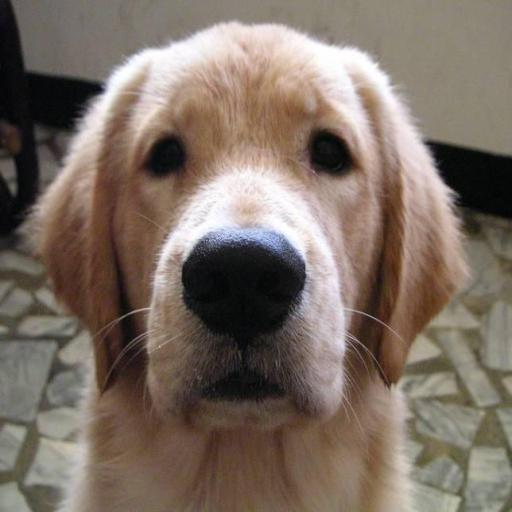dog_face: (40, 40, 449, 405)
